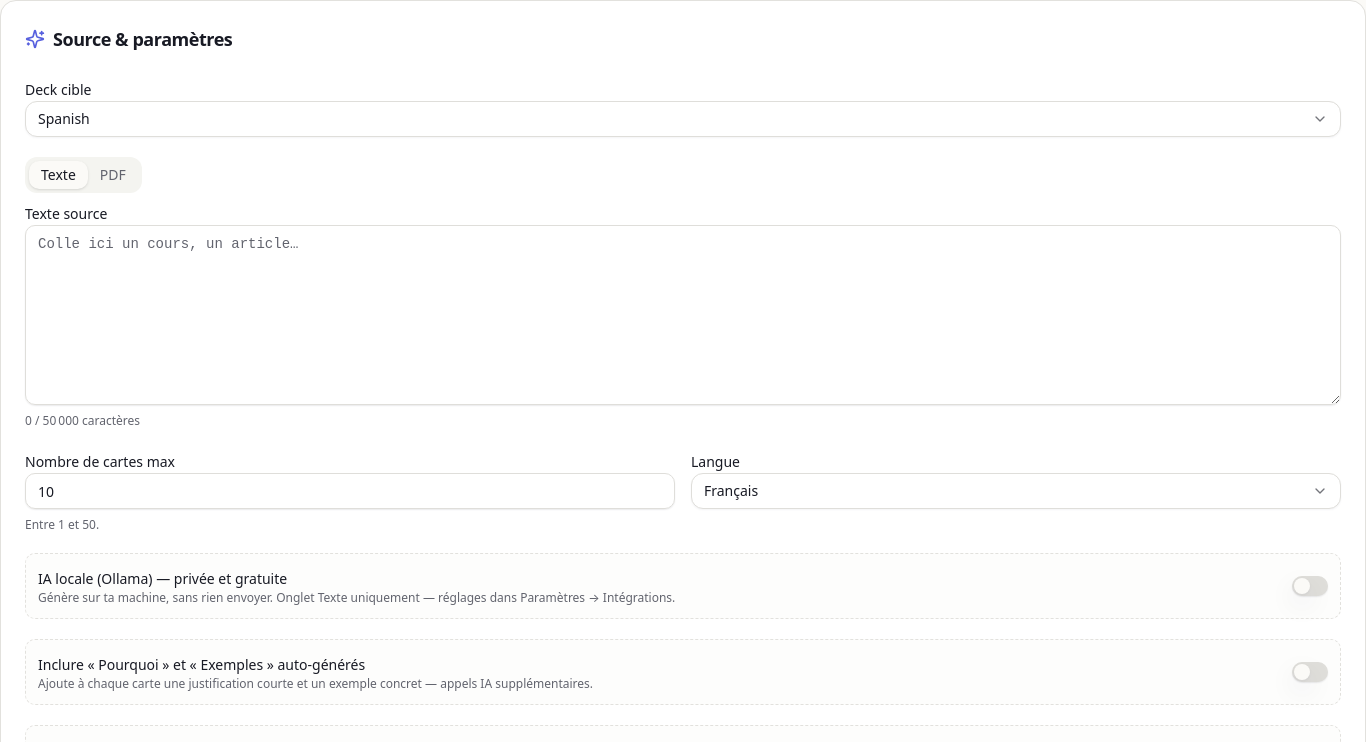
Test: AiGenerator › populates the deck selector when decks are available
Click the dropdown named "Deck cible" at [64, 118], box [25, 101, 1341, 137]
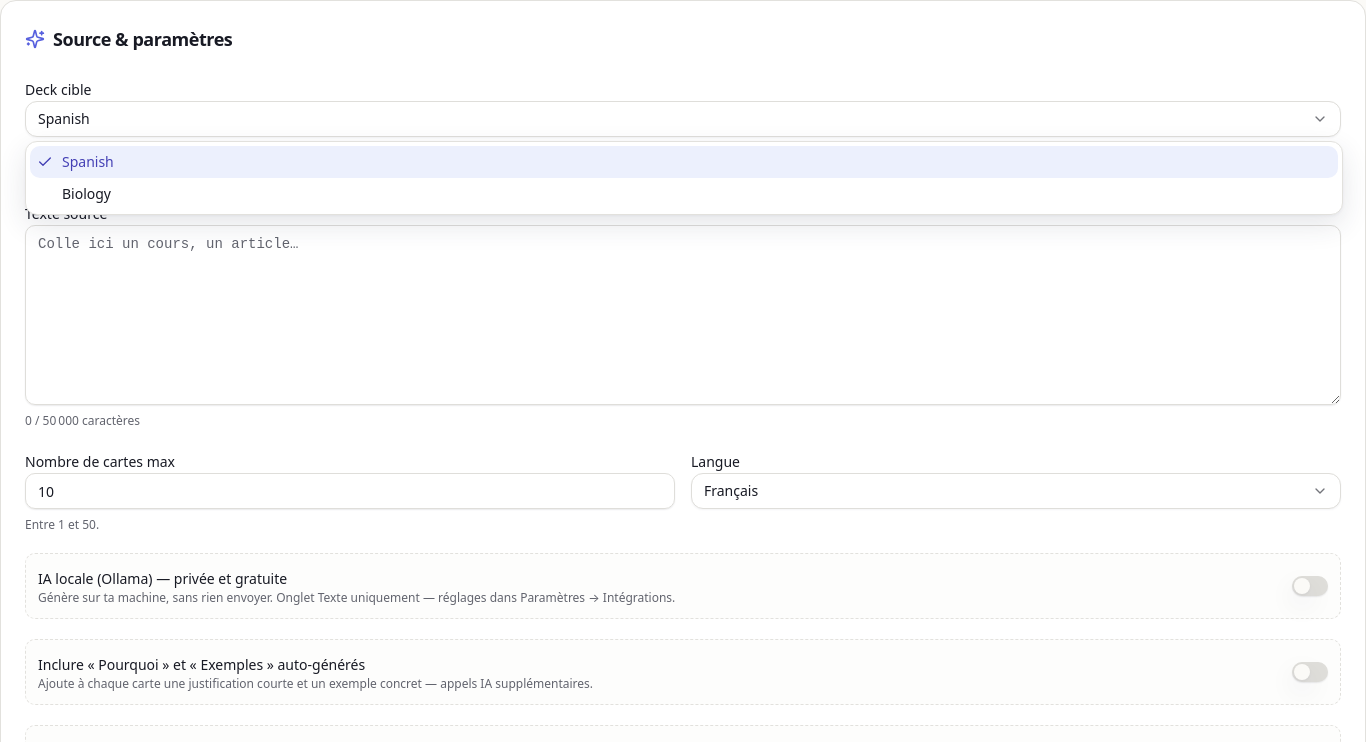
Check: the number of options is 2, box [30, 146, 1338, 178]; [62, 184, 111, 203]
Check: the option "Spanish" is shown, box [30, 146, 1338, 178]
Check: the option "Biology" is shown, box [62, 184, 111, 203]
